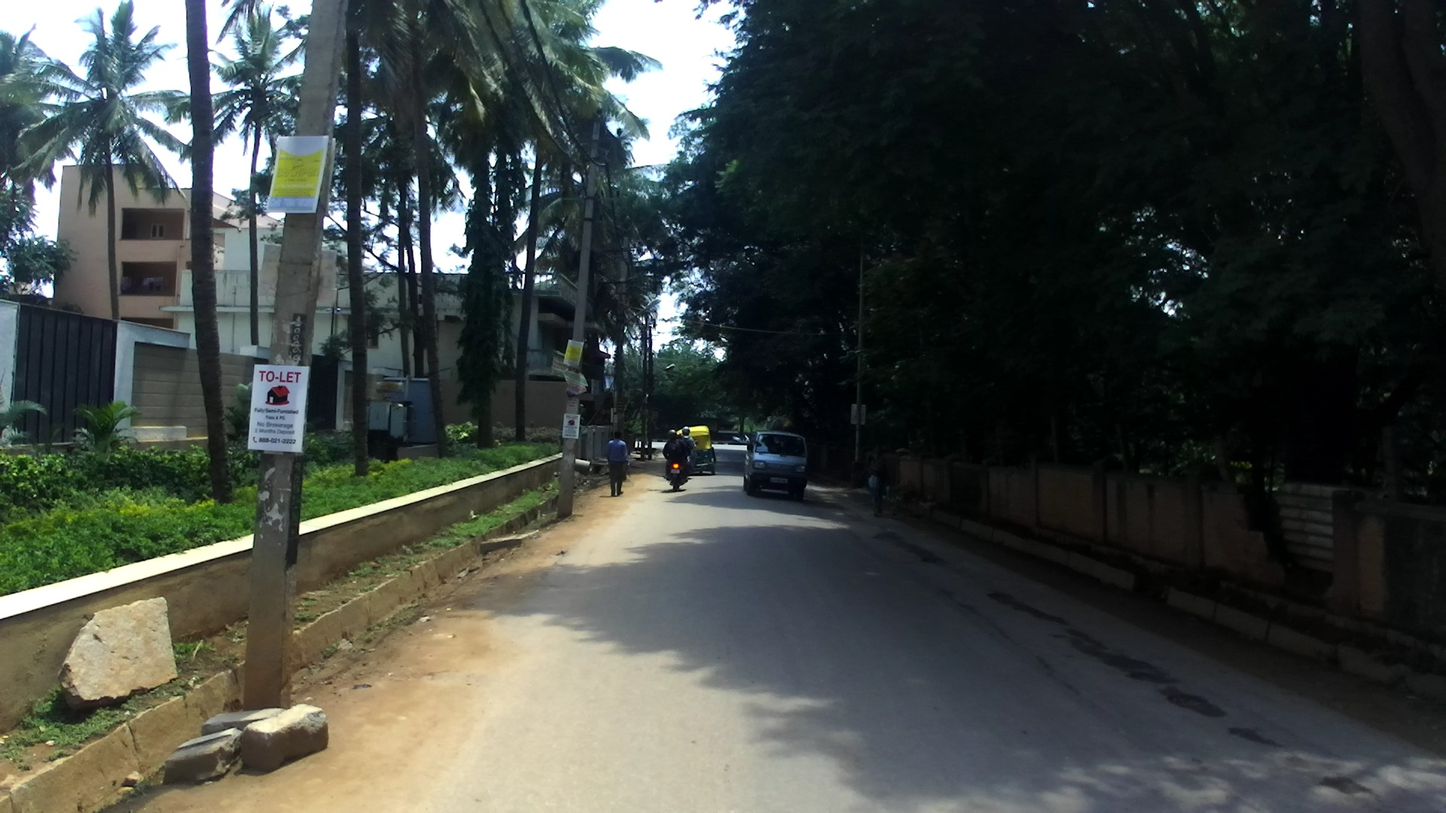autorickshaw: (676, 426, 717, 477)
car: (743, 433, 809, 500)
motorcycle: (663, 447, 692, 492), (678, 441, 697, 478), (728, 435, 752, 445)
person: (864, 443, 888, 519), (607, 430, 629, 496)
rider: (661, 429, 694, 480), (677, 428, 697, 470)
vehicle fallback: (717, 431, 740, 440)
